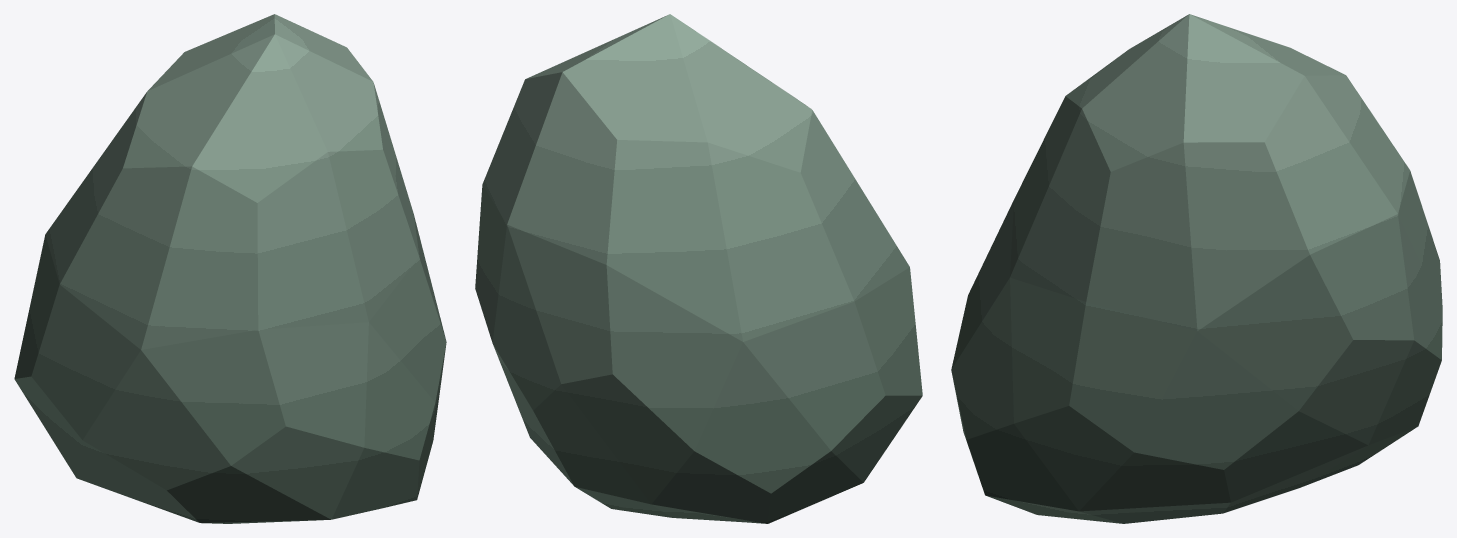
File: rocks-2.fbx
The picture shows the model from 3 angles, left to right: view 1: azimuth 30°, elevation 25°; view 2: azimuth 150°, elevation 25°; view 3: azimuth 270°, elevation 25°; orthographic projection. The views are drawn at different scales.
Visible parts, largest first — view 1: Icosphere.003; view 2: Icosphere.003; view 3: Icosphere.003.
Part boxes in pixels (box(x1,y1,x2,y2)): Icosphere.003: box(14, 14, 446, 523); Icosphere.003: box(475, 14, 922, 523); Icosphere.003: box(951, 14, 1442, 523).
Bounding box in the file's own units: 175 × 198 × 182.
